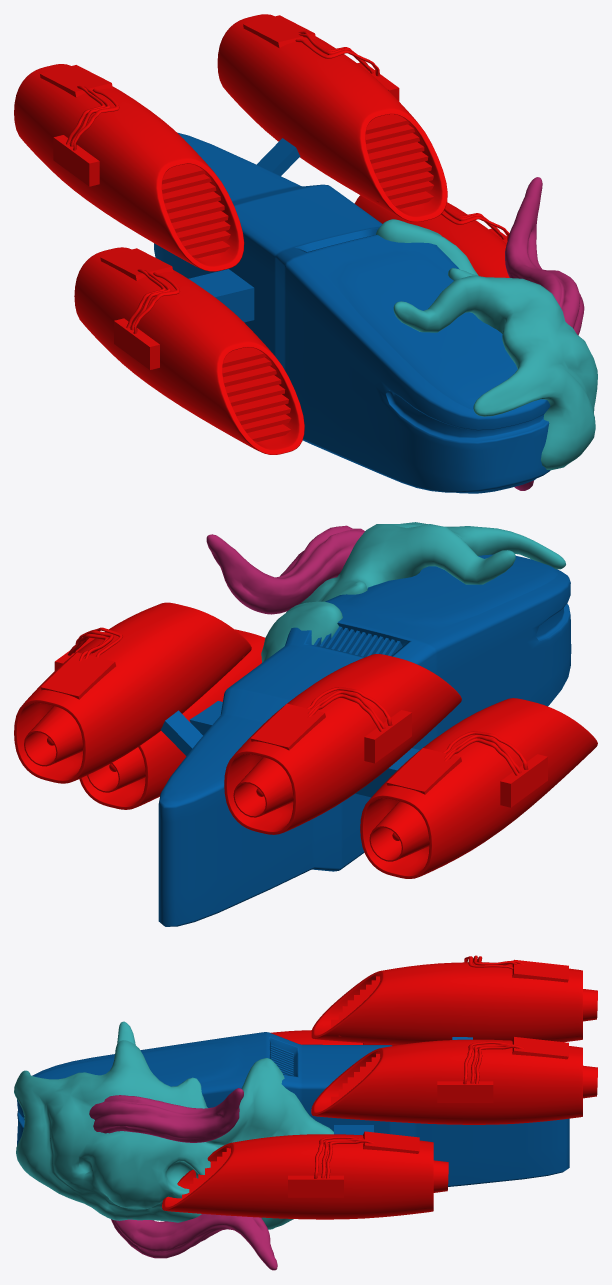
Rendered from EnemyShipB_mesh.fbx.
3 views of the same model, one above another, from view 1: azimuth 30°, elevation 25°; view 2: azimuth 150°, elevation 25°; view 3: azimuth 270°, elevation 25° (orthographic). The views are drawn at different scales.
Parts seen in each view (by area): view 1: PM3D_Sphere3D1_5; view 2: PM3D_Sphere3D1_5; view 3: PM3D_Sphere3D1_5.
Part boxes in pixels (x1,y1,x2,y2): PM3D_Sphere3D1_5: (14, 14, 597, 493); PM3D_Sphere3D1_5: (14, 522, 597, 926); PM3D_Sphere3D1_5: (14, 955, 597, 1270).
Size of the model in its own units: 1498 by 1053 by 2559.
